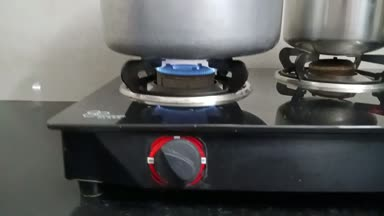flame_gas_on: (129, 49, 242, 188)
